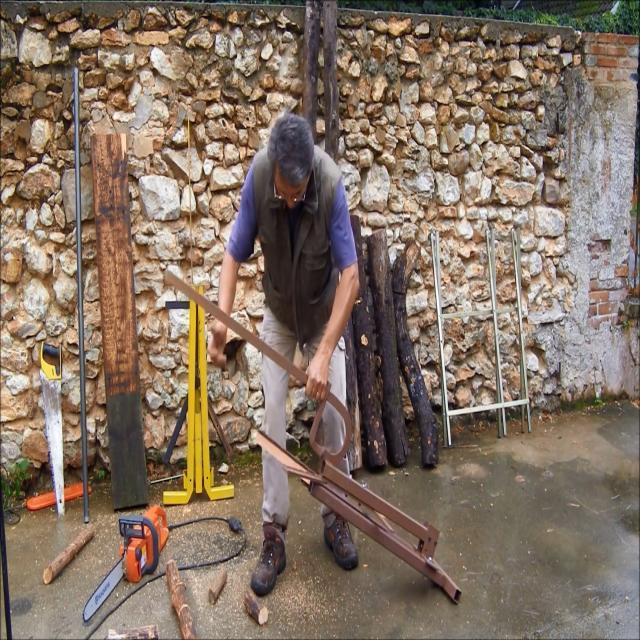Chainsaw: (78, 486, 184, 640)
